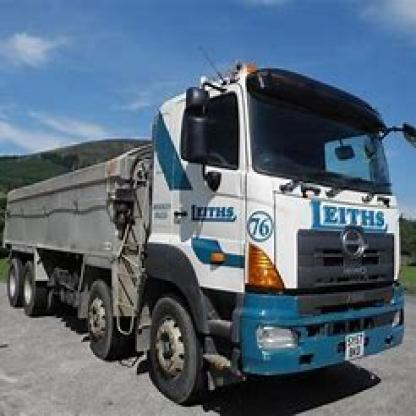dump_truck: (10, 58, 414, 386)
